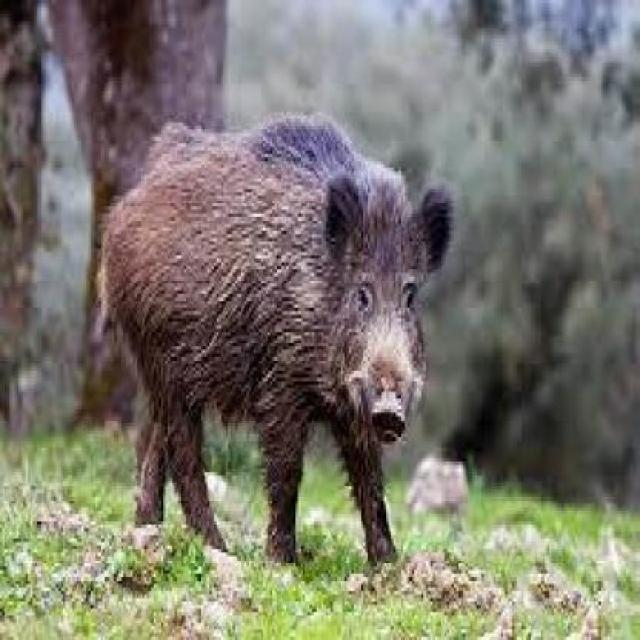wildboar: (94, 88, 457, 594)
